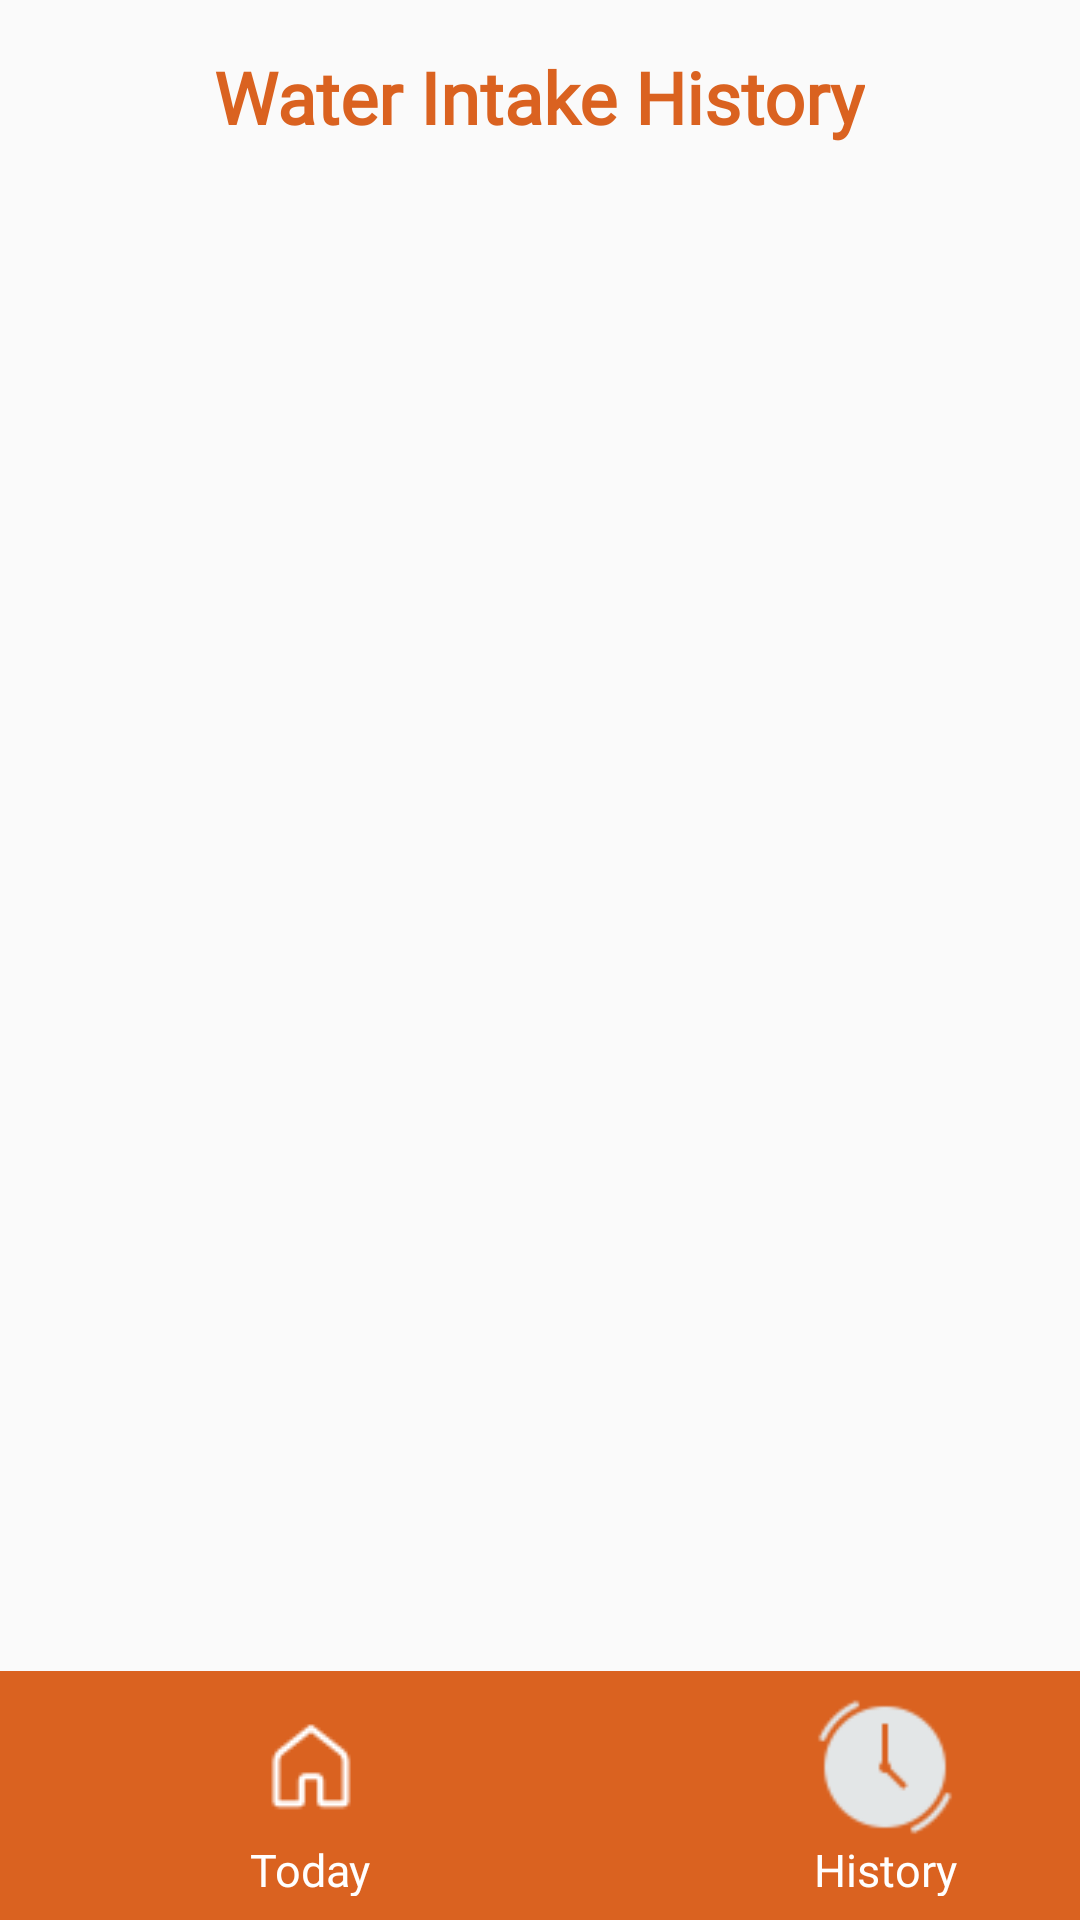

Locate icon controls on the screen. Image size 1080x1920, boxes as bbox=(x1, y1, x2, y2).
return to home: bbox=(271, 1724, 351, 1810)
